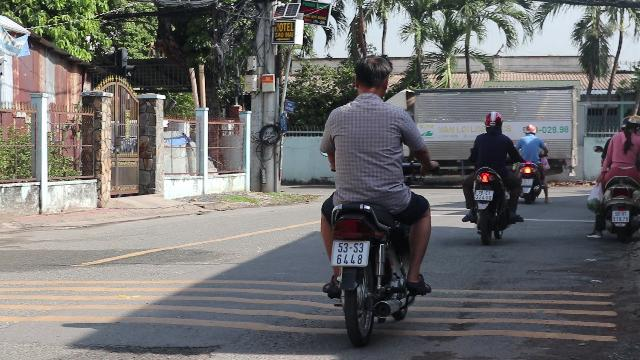helmet: (483, 112, 503, 132), (621, 114, 639, 132)
licenseplate: (332, 240, 368, 266), (474, 190, 494, 200), (612, 210, 628, 221)
motorcyclist: (312, 56, 438, 344), (458, 112, 522, 242), (585, 112, 639, 241)
nohelmet: (351, 55, 393, 98)
